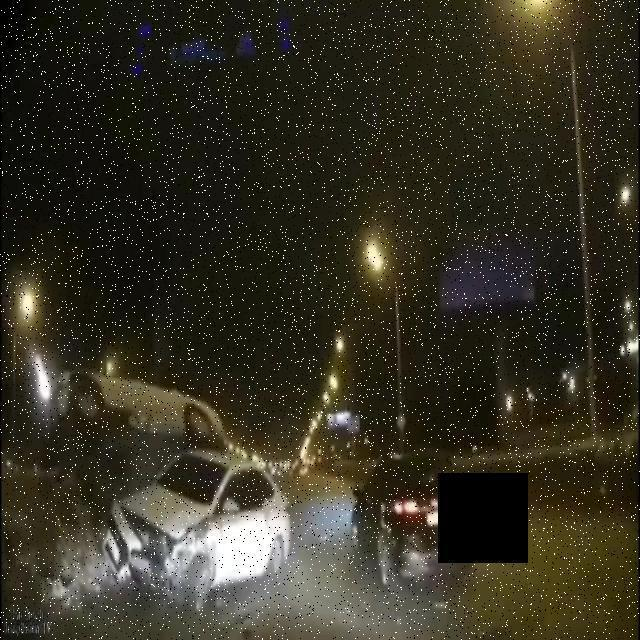accident: (42, 367, 294, 613)
